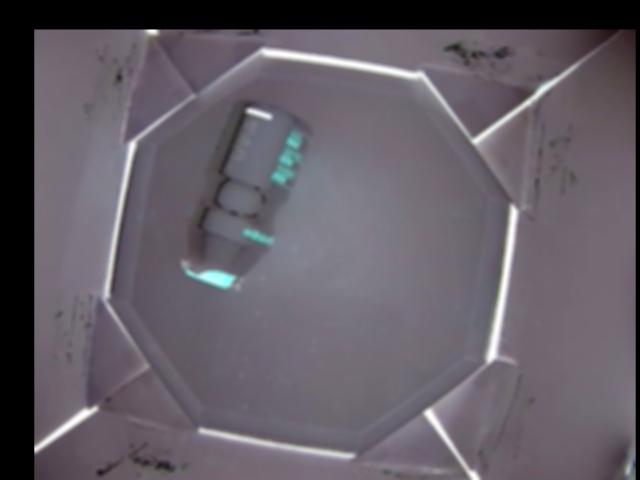Bottle: (180, 97, 316, 290)
